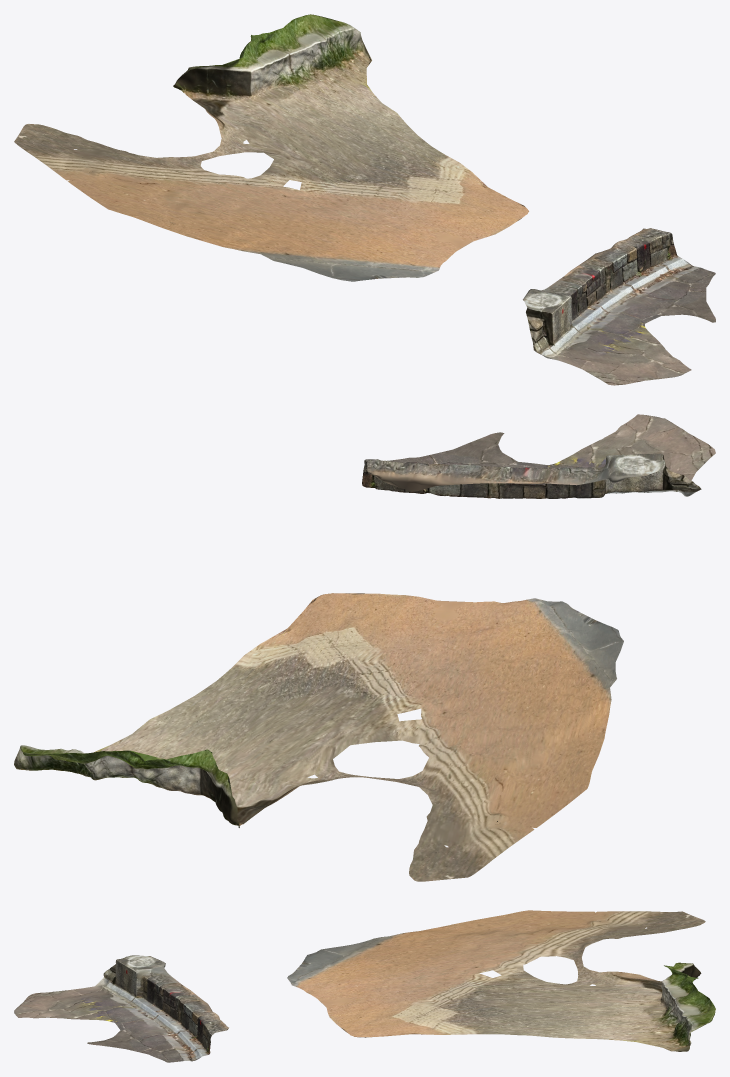
3 views of the same model, one above another, from view 1: azimuth 30°, elevation 25°; view 2: azimuth 150°, elevation 25°; view 3: azimuth 270°, elevation 25° (orthographic). The views are drawn at different scales.
Parts seen in each view (by area): view 1: baked_mesh_41879efe; view 2: baked_mesh_41879efe; view 3: baked_mesh_41879efe.
Part boxes in pixels (left/top/right/bottom): baked_mesh_41879efe: left=14, top=14, right=715, bottom=385; baked_mesh_41879efe: left=14, top=414, right=715, bottom=881; baked_mesh_41879efe: left=14, top=910, right=715, bottom=1062.
Bounding box in the file's own units: 0.5961 × 0.0663 × 1.14.
Materials: 1 (1 with a texture image).
